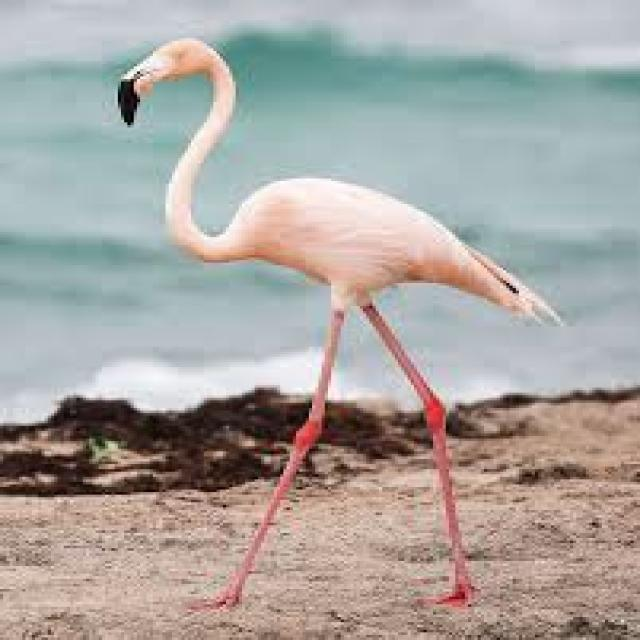flamingo: (118, 38, 557, 602)
